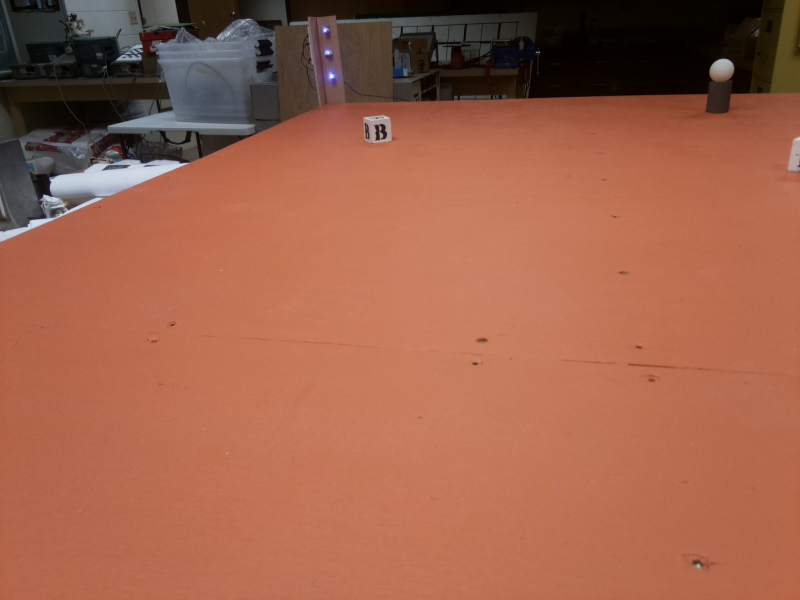blockB: (360, 113, 398, 144)
corner: (301, 17, 355, 110)
obstacle: (703, 56, 737, 113)
